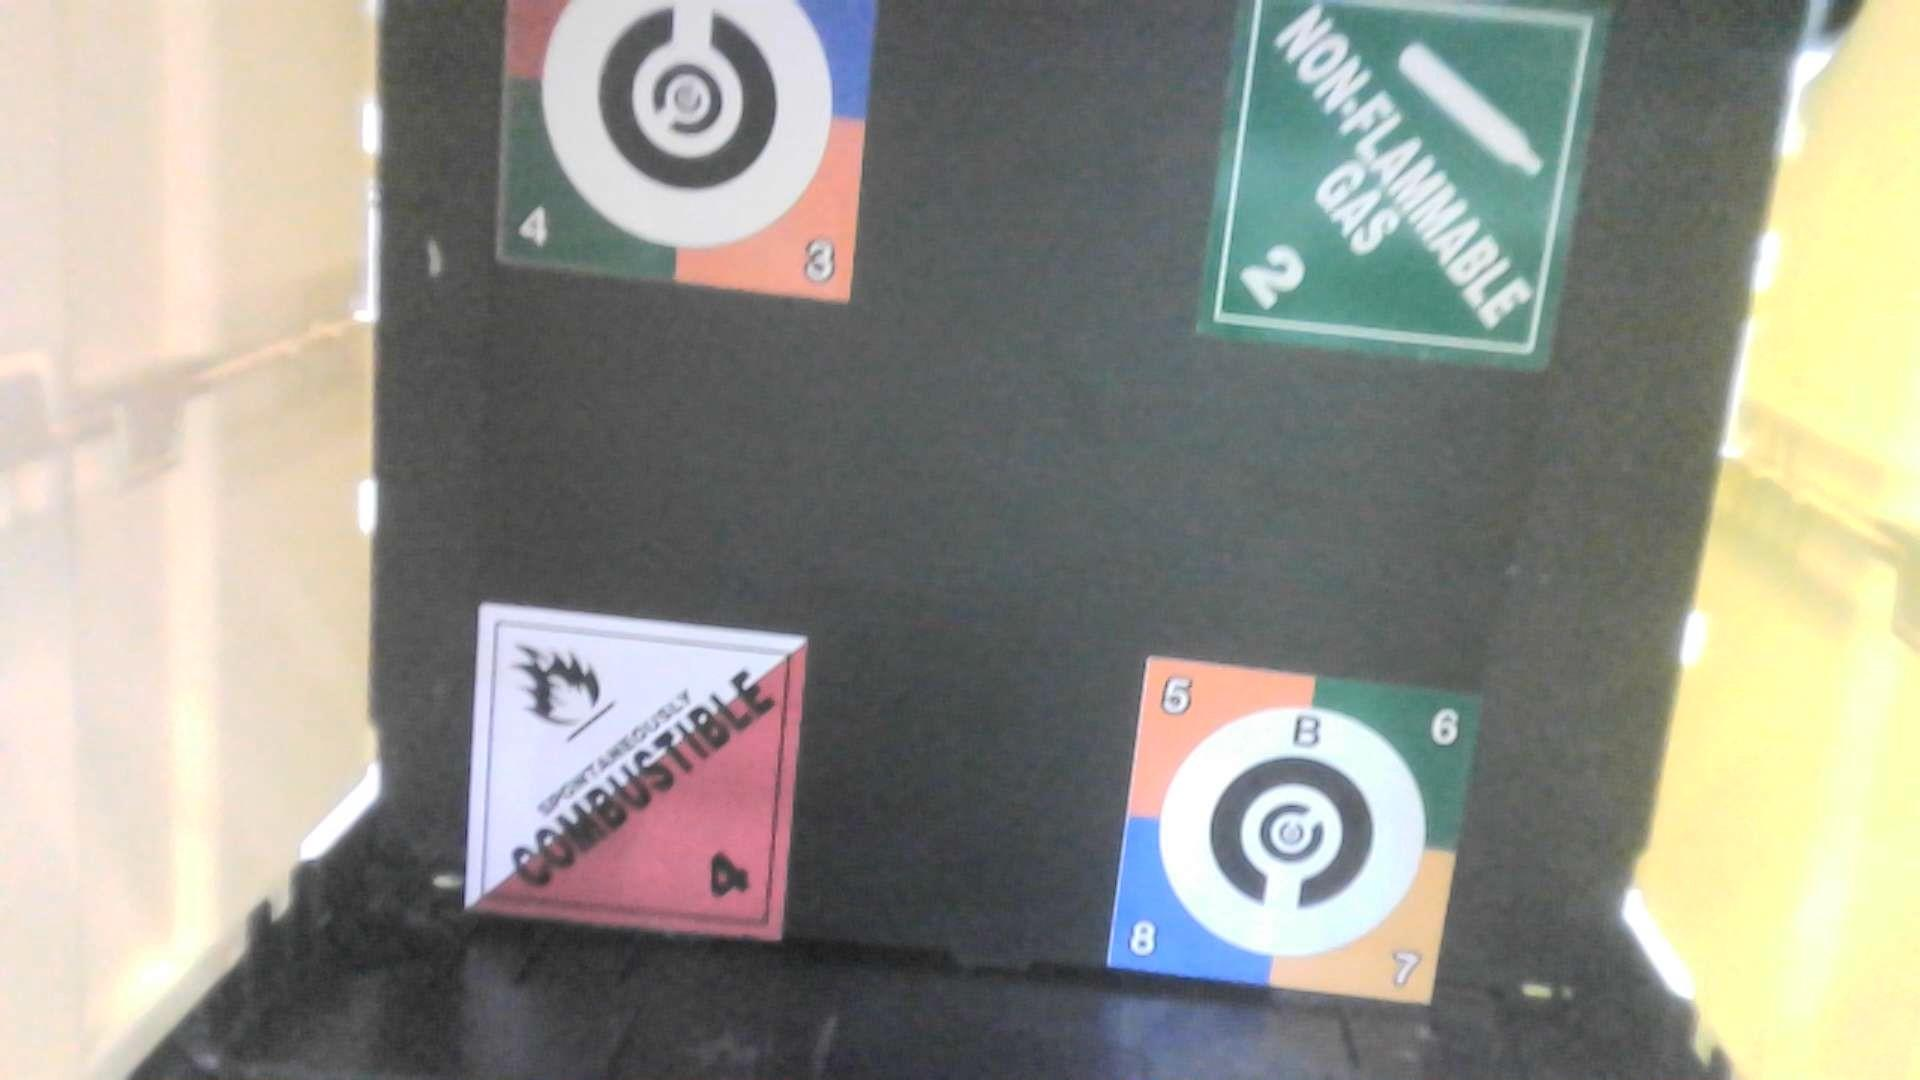non-flammable-gas: (1193, 1, 1625, 375)
spontaneously-combustible: (427, 596, 829, 949)
